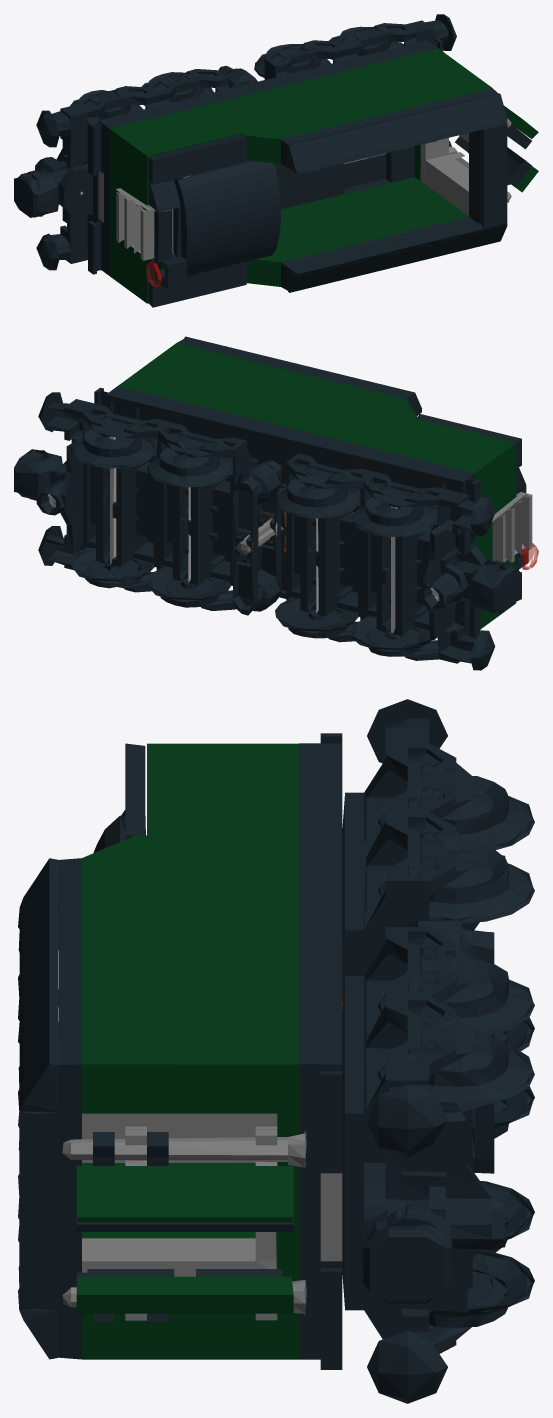
File: tender.glb
3 views of the same model, one above another, from view 1: azimuth 30°, elevation 25°; view 2: azimuth 150°, elevation 25°; view 3: azimuth 270°, elevation 25° (orthographic). The views are drawn at different scales.
Size of the model in its own units: 152 by 52 by 76.24.
